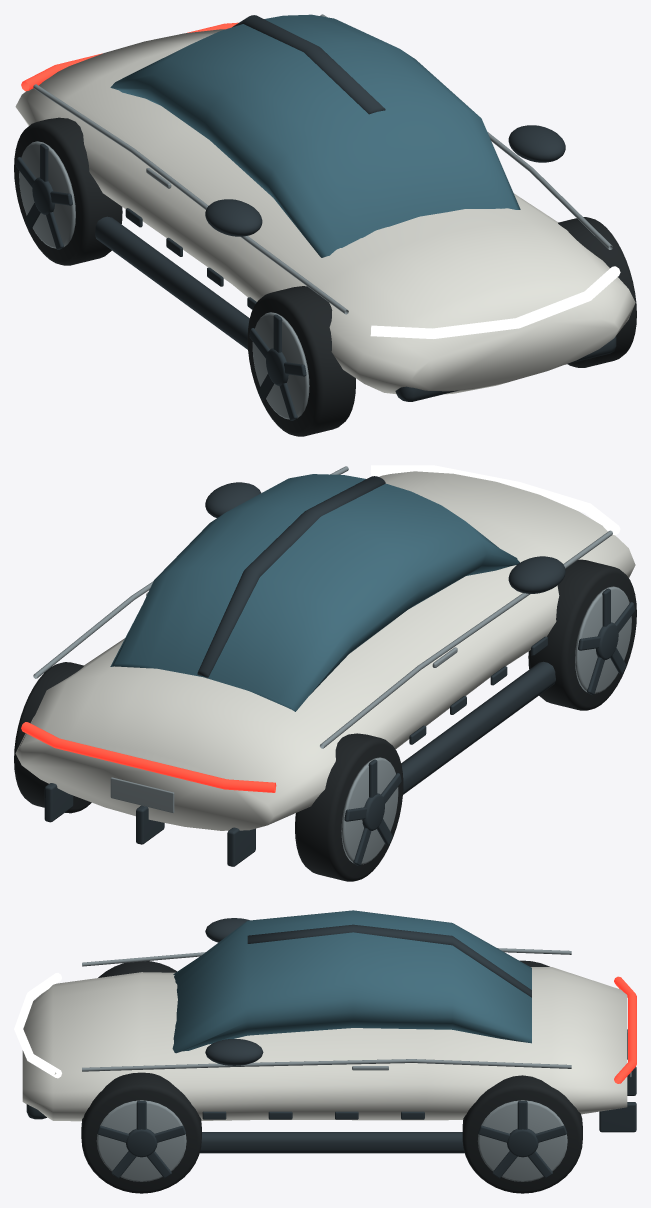
Rendered from sentinel-sedan.glb.
The picture shows the model from 3 angles, top to bottom: view 1: azimuth 30°, elevation 25°; view 2: azimuth 150°, elevation 25°; view 3: azimuth 270°, elevation 25°; orthographic projection. The views are drawn at different scales.
Parts seen in each view (by area): view 1: NC ceramic ivory.006, NC sapphire glazing.006, NC tire, NC graphite.006, NC brushed titanium.006, NC headlamp, NC tail.006; view 2: NC ceramic ivory.006, NC sapphire glazing.006, NC graphite.006, NC tire, NC brushed titanium.006, NC tail.006, NC headlamp; view 3: NC ceramic ivory.006, NC sapphire glazing.006, NC graphite.006, NC tire, NC brushed titanium.006, NC headlamp, NC tail.006.
Part boxes in pixels (left/top/right/bottom): NC ceramic ivory.006: left=15, top=29, right=635, bottom=394; NC sapphire glazing.006: left=110, top=14, right=520, bottom=257; NC tire: left=14, top=117, right=636, bottom=436; NC graphite.006: left=16, top=15, right=616, bottom=420; NC brushed titanium.006: left=19, top=14, right=612, bottom=419; NC headlamp: left=370, top=266, right=620, bottom=338; NC tail.006: left=21, top=22, right=238, bottom=91; NC ceramic ivory.006: left=15, top=471, right=635, bottom=830; NC sapphire glazing.006: left=110, top=474, right=519, bottom=711; NC graphite.006: left=44, top=476, right=634, bottom=866; NC tire: left=14, top=559, right=636, bottom=881; NC brushed titanium.006: left=33, top=466, right=631, bottom=864; NC tail.006: left=21, top=722, right=276, bottom=792; NC headlamp: left=370, top=465, right=620, bottom=535; NC ceramic ivory.006: left=22, top=967, right=627, bottom=1121; NC sapphire glazing.006: left=172, top=910, right=531, bottom=1053; NC graphite.006: left=26, top=918, right=636, bottom=1178; NC tire: left=81, top=960, right=582, bottom=1193; NC brushed titanium.006: left=82, top=948, right=631, bottom=1181; NC headlamp: left=14, top=973, right=61, bottom=1078; NC tail.006: left=614, top=976, right=636, bottom=1083.
Bounding box in the file's own units: 2.48 × 1.72 × 4.71.
